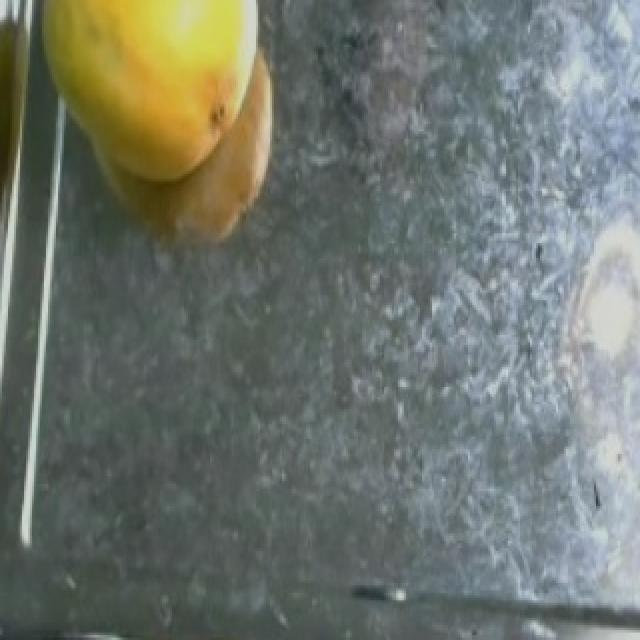fruit: (12, 0, 304, 211)
